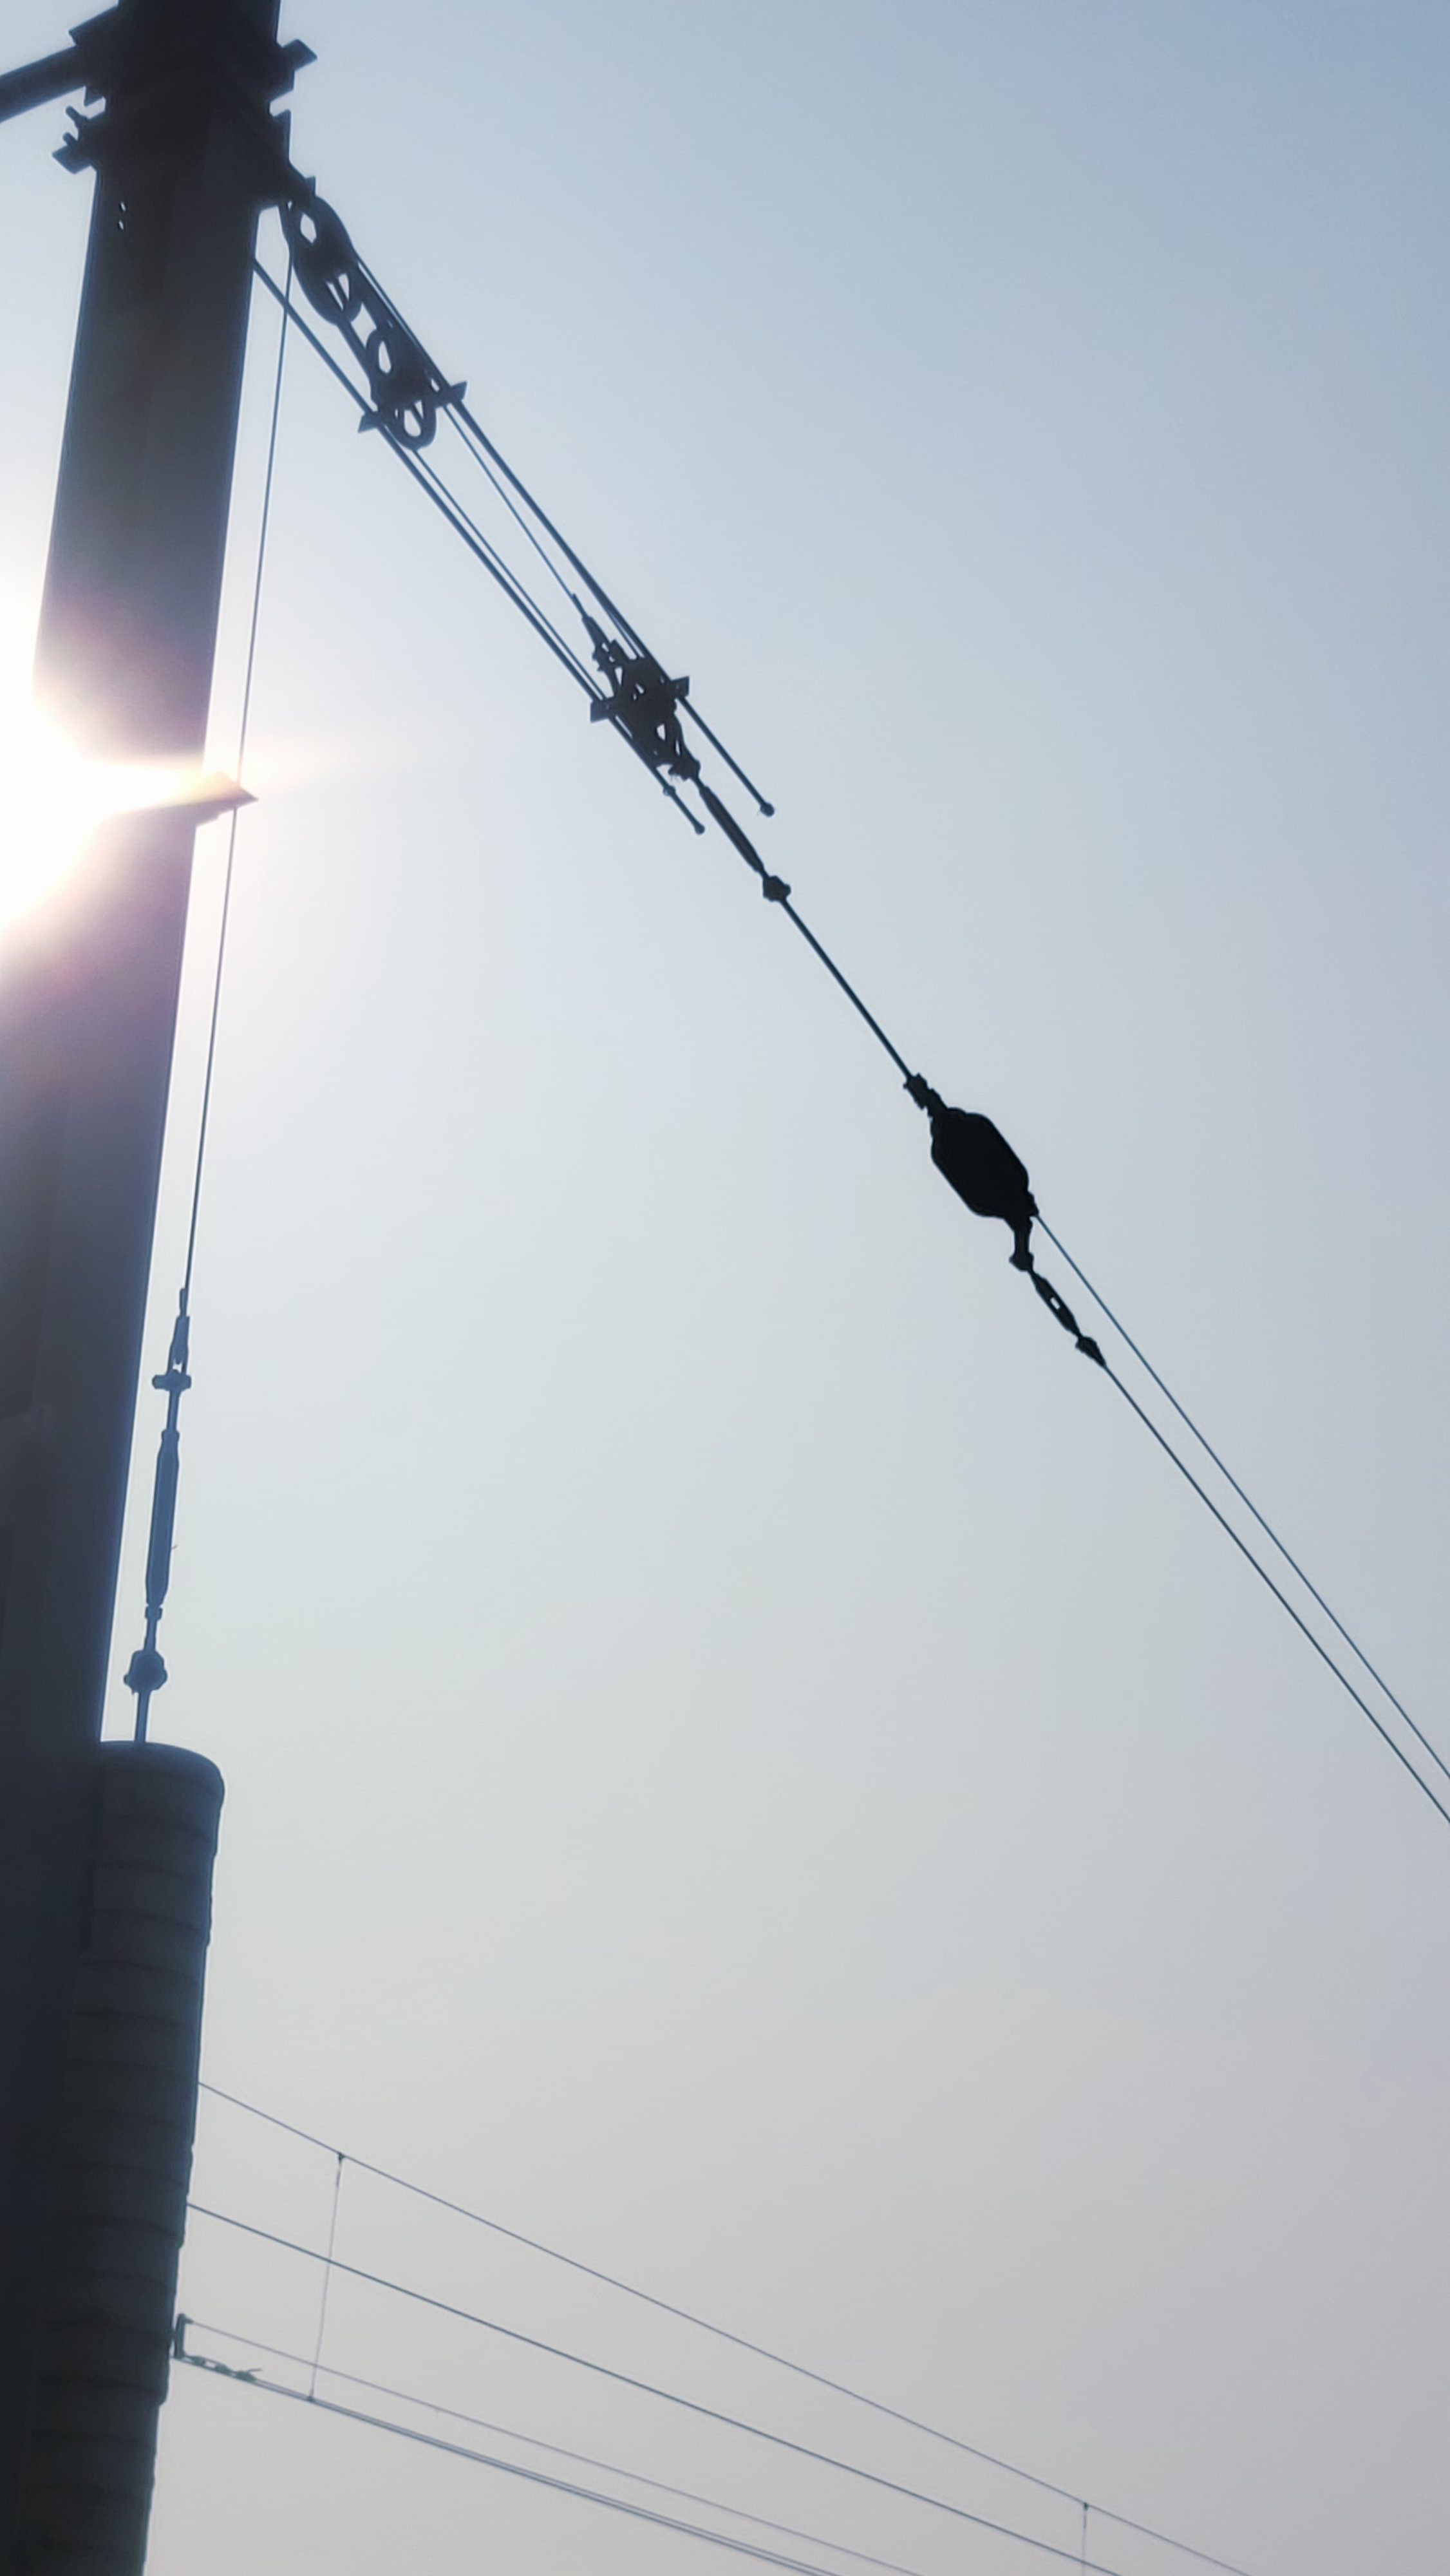counter weight: (108, 1700, 242, 2576)
pulley: (260, 150, 364, 322), (621, 621, 707, 793), (364, 274, 439, 465)
